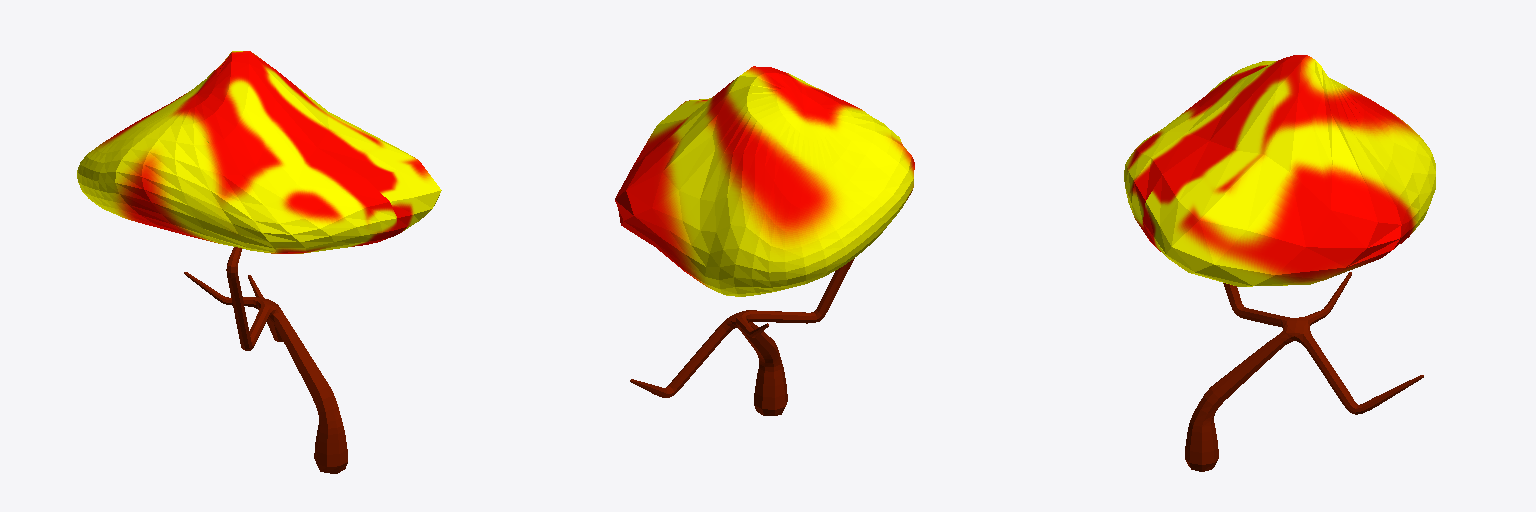
The picture shows the model from 3 angles: view 1: azimuth 30°, elevation 25°; view 2: azimuth 150°, elevation 25°; view 3: azimuth 270°, elevation 25°; orthographic projection.
Parts seen in each view (by area): view 1: Sphere; view 2: Sphere; view 3: Sphere.
Part boxes in pixels (x1,y1,x2,y2): Sphere: (77, 51, 441, 473); Sphere: (615, 66, 914, 415); Sphere: (1124, 55, 1435, 471).
Size of the model in its own units: 2.8 by 3.65 by 2.63.
1 materials, 1 textured.